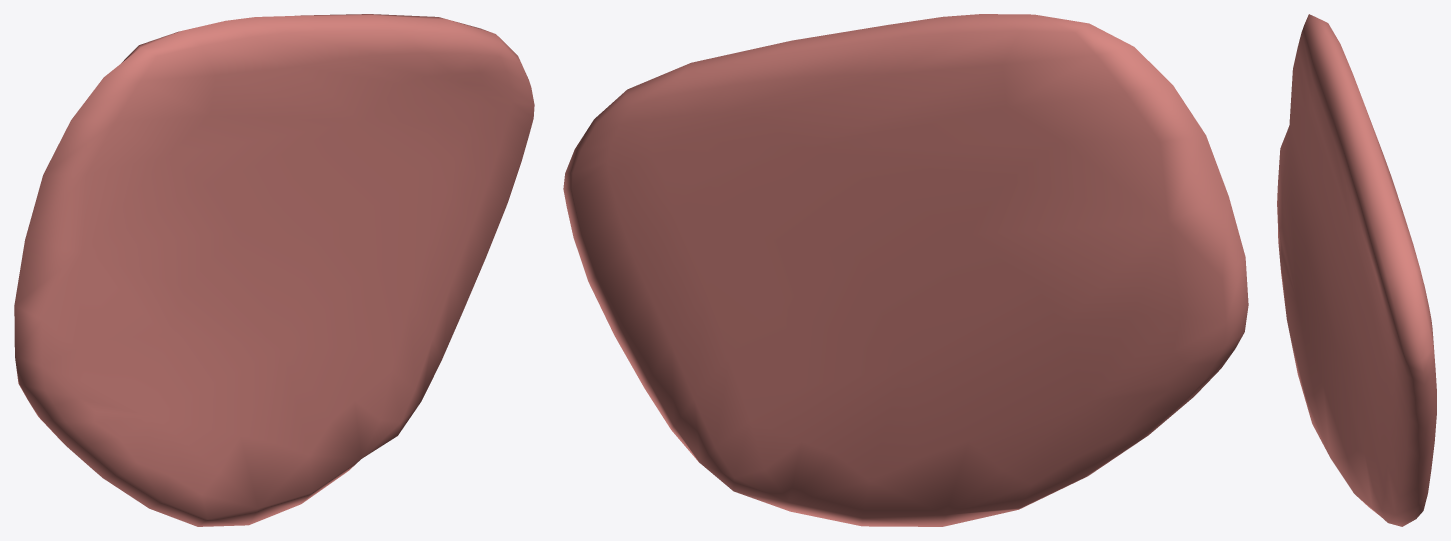
The picture shows the model from 3 angles, left to right: view 1: azimuth 30°, elevation 25°; view 2: azimuth 150°, elevation 25°; view 3: azimuth 270°, elevation 25°; orthographic projection. The views are drawn at different scales.
Parts seen in each view (by area): view 1: ZA_5c1cf2439f6f6063; view 2: ZA_5c1cf2439f6f6063; view 3: ZA_5c1cf2439f6f6063.
Boxes of the visible parts, x1,y1,x2,y2 form: ZA_5c1cf2439f6f6063: (14, 14, 534, 526); ZA_5c1cf2439f6f6063: (563, 14, 1248, 526); ZA_5c1cf2439f6f6063: (1277, 14, 1436, 526).
Bounding box in the file's own units: 0.00626 × 0.00525 × 0.00183.
